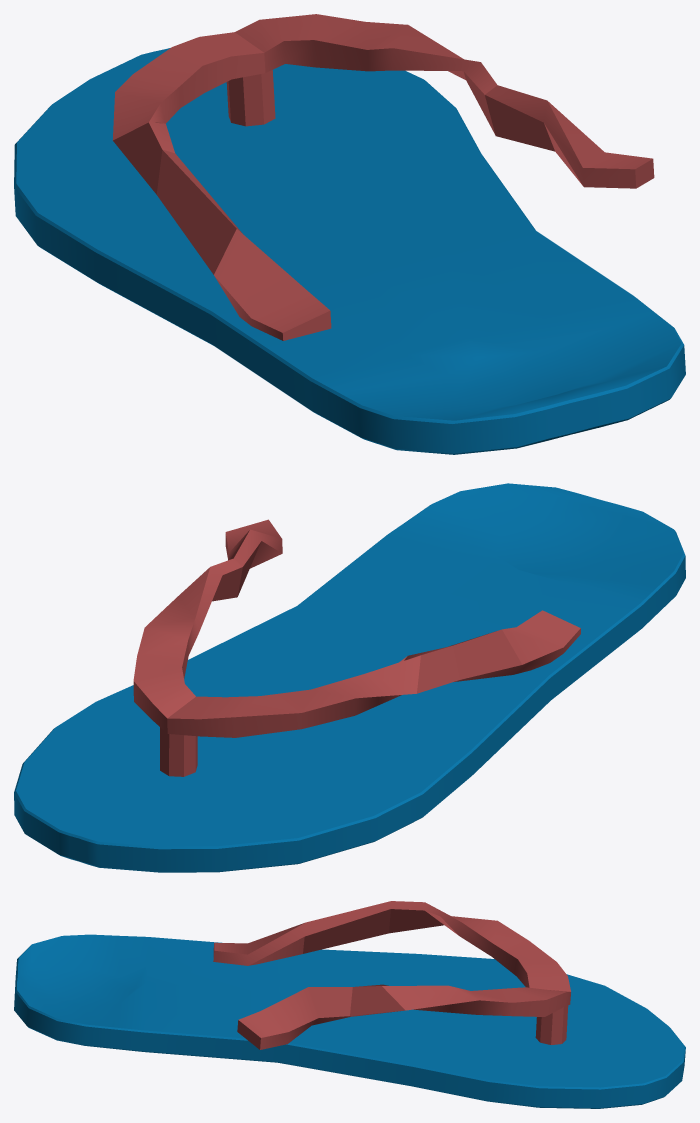
The model's file is Tsinelas.fbx.
The picture shows the model from 3 angles, top to bottom: view 1: azimuth 30°, elevation 25°; view 2: azimuth 150°, elevation 25°; view 3: azimuth 270°, elevation 25°; orthographic projection. The views are drawn at different scales.
Visible parts, largest first — view 1: pCube4, pCube7, pCylinder15; view 2: pCube4, pCube7, pCylinder15; view 3: pCube4, pCube7, pCylinder15.
Part boxes in pixels (left/top/right/bottom): pCube4: left=14, top=48, right=685, bottom=454; pCube7: left=112, top=14, right=654, bottom=340; pCylinder15: left=226, top=70, right=275, bottom=126; pCube4: left=14, top=483, right=685, bottom=872; pCube7: left=133, top=519, right=580, bottom=737; pCylinder15: left=160, top=727, right=197, bottom=776; pCube4: left=14, top=934, right=685, bottom=1108; pCube7: left=213, top=901, right=570, bottom=1049; pCylinder15: left=535, top=1005, right=568, bottom=1044.
Bounding box in the file's own units: 2.37 × 0.9403 × 5.05.
